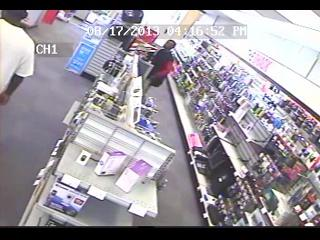Normal: (0, 10, 36, 106), (142, 40, 178, 96)
